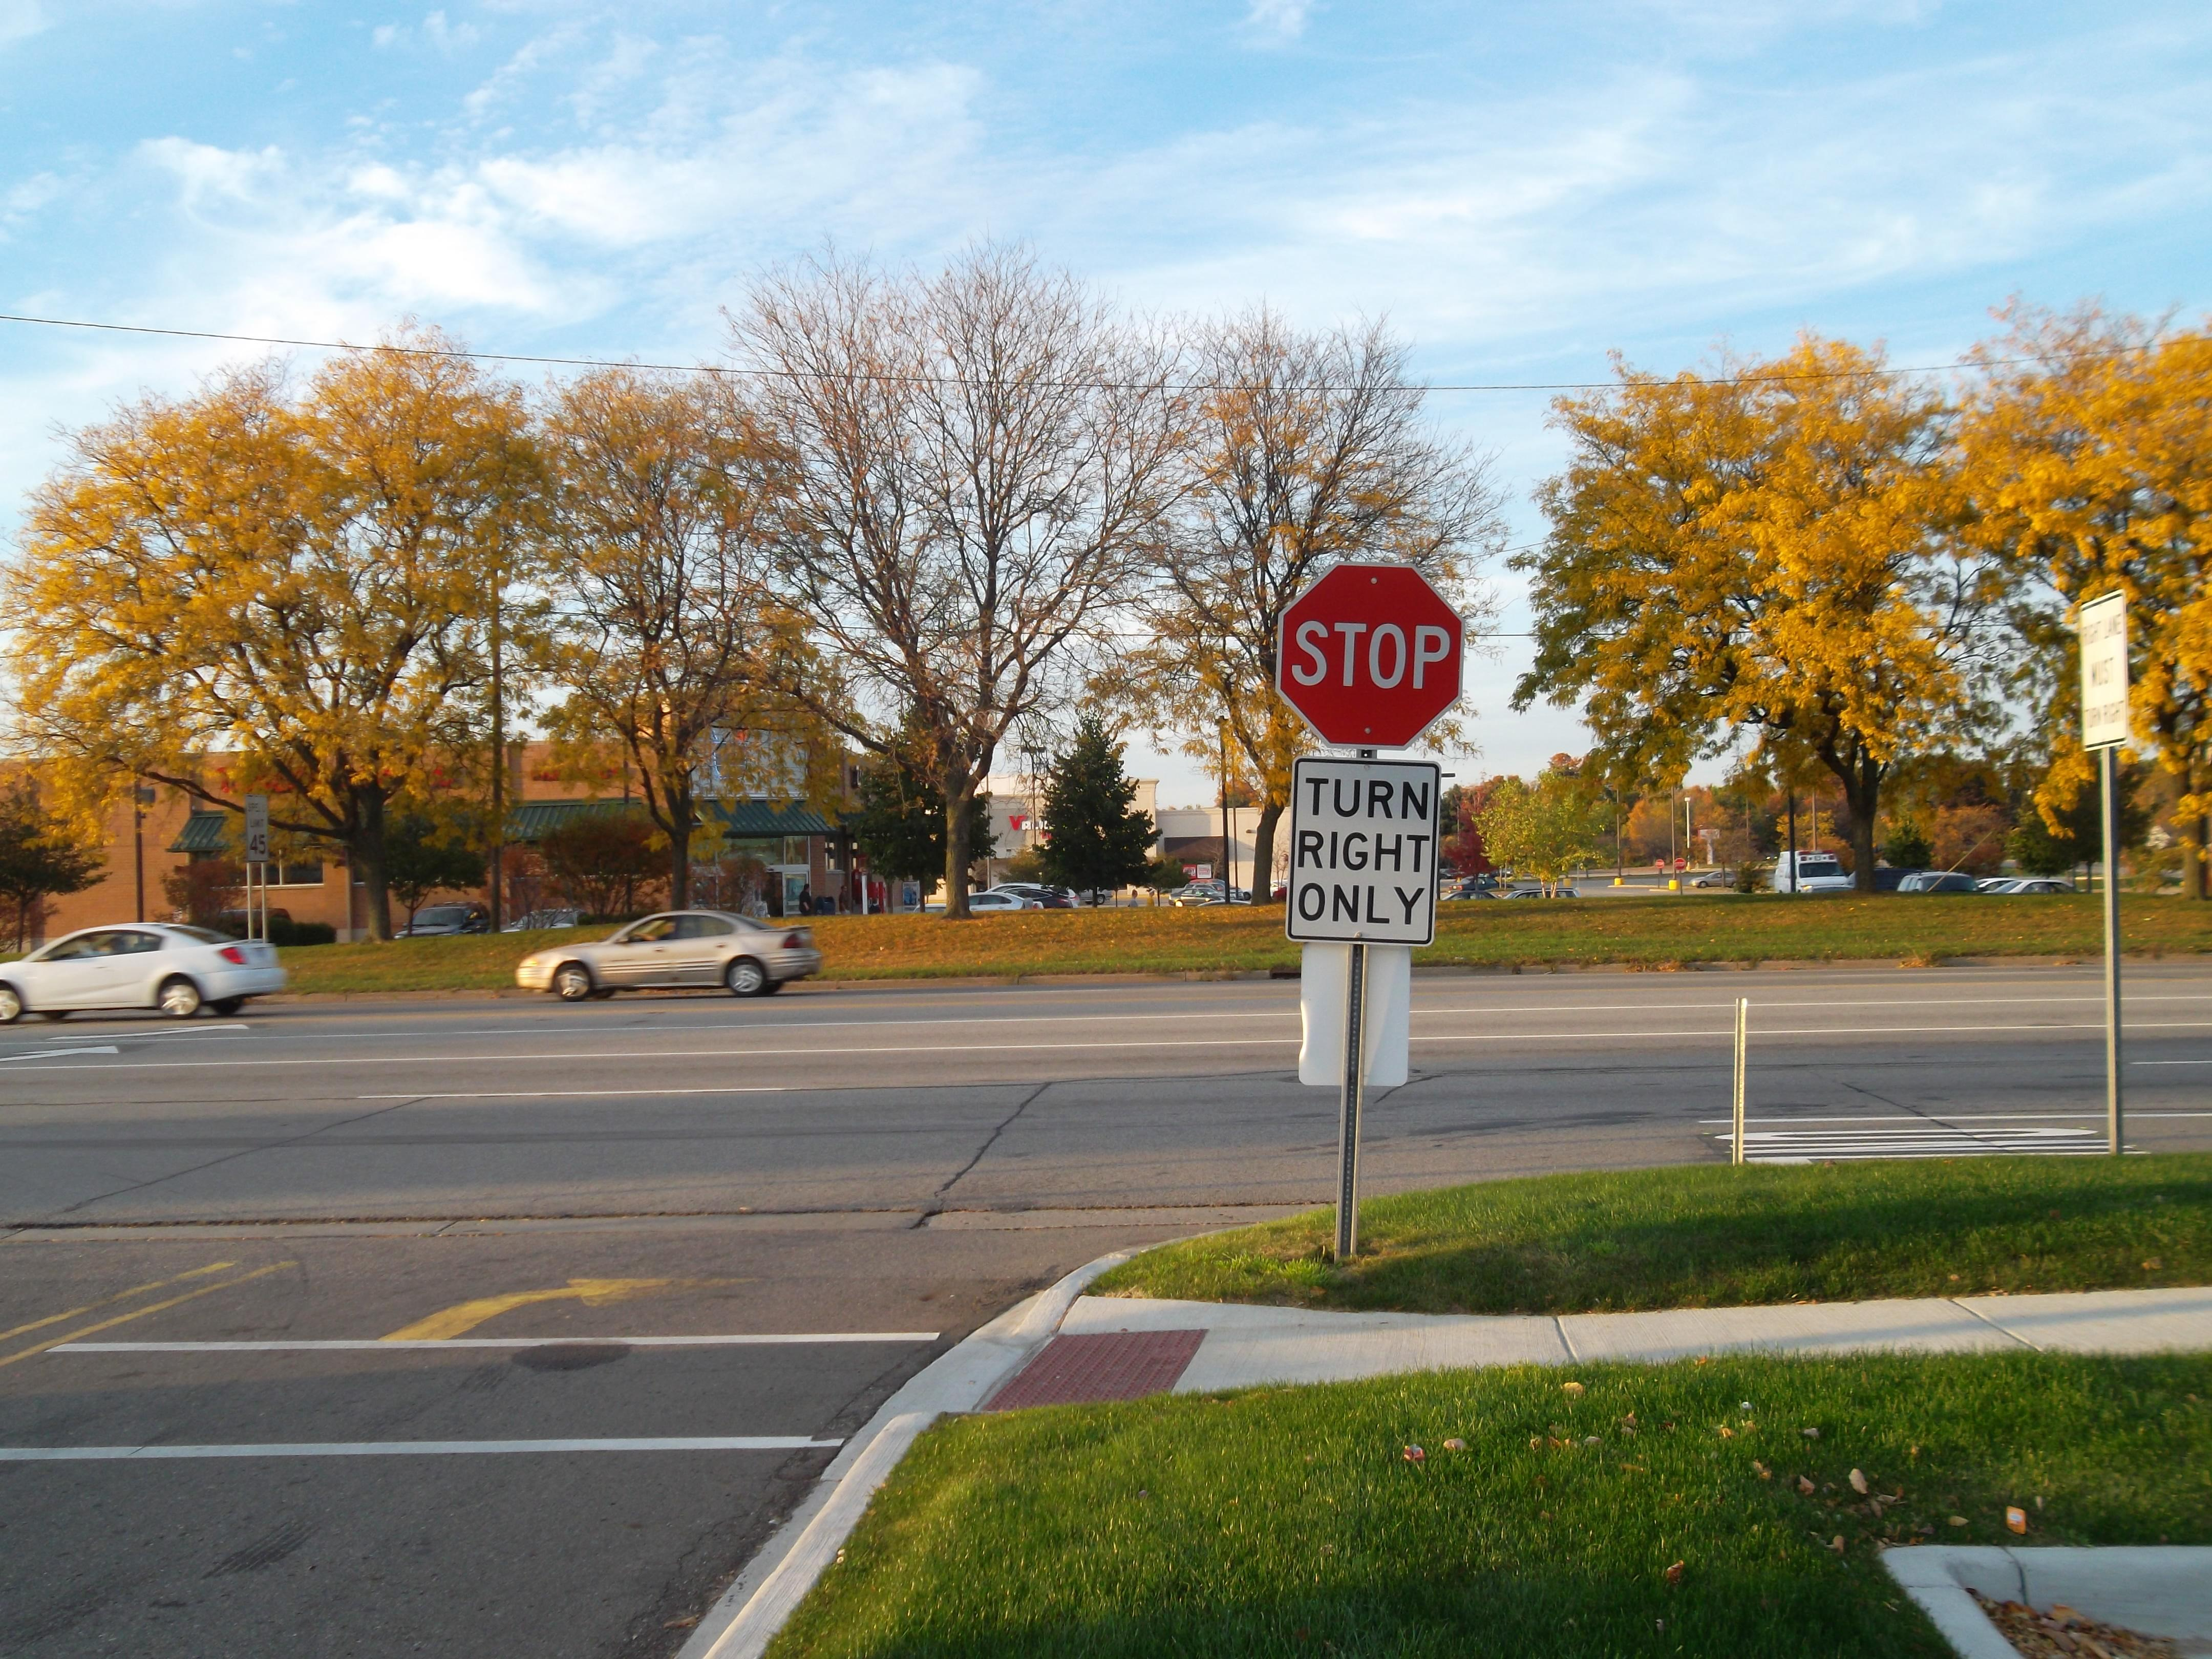regulatory: (1280, 748, 1449, 958), (2073, 591, 2137, 756)
stop: (1251, 549, 1480, 753)
